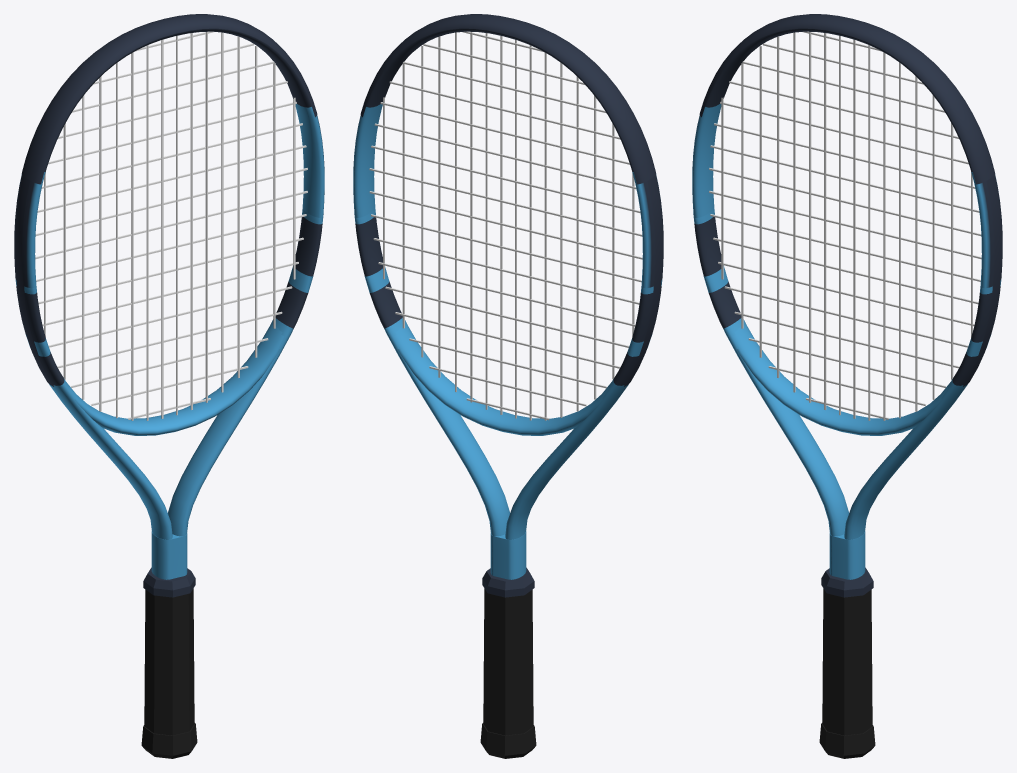
Rendered from babolat-drive-junior-24-2025.glb.
The picture shows the model from 3 angles, left to right: view 1: azimuth 30°, elevation 25°; view 2: azimuth 150°, elevation 25°; view 3: azimuth 330°, elevation 25°; orthographic projection.
Parts seen in each view (by area): view 1: frame, strings_mains, strings_crosses, grip, bumper, grommets, butt_cap, collar; view 2: frame, strings_mains, strings_crosses, grip, bumper, grommets, butt_cap, collar; view 3: frame, strings_mains, strings_crosses, grip, bumper, grommets, butt_cap, collar.
Boxes of the visible parts, bbox=[...] form: frame: bbox=[14, 28, 324, 579]; strings_mains: bbox=[44, 31, 295, 420]; strings_crosses: bbox=[35, 31, 307, 419]; grip: bbox=[144, 588, 194, 735]; bumper: bbox=[21, 14, 317, 184]; grommets: bbox=[15, 176, 53, 386]; butt_cap: bbox=[141, 723, 197, 758]; collar: bbox=[143, 567, 195, 597]; frame: bbox=[353, 28, 663, 579]; strings_mains: bbox=[383, 32, 634, 420]; strings_crosses: bbox=[369, 31, 642, 420]; grip: bbox=[483, 588, 533, 735]; bumper: bbox=[360, 14, 656, 184]; grommets: bbox=[624, 176, 662, 386]; butt_cap: bbox=[480, 723, 536, 758]; collar: bbox=[482, 567, 534, 597]; frame: bbox=[692, 28, 1002, 579]; strings_mains: bbox=[721, 31, 972, 420]; strings_crosses: bbox=[709, 31, 981, 419]; grip: bbox=[822, 588, 872, 735]; bumper: bbox=[699, 14, 995, 184]; grommets: bbox=[963, 176, 1001, 386]; butt_cap: bbox=[819, 723, 875, 758]; collar: bbox=[821, 567, 873, 597].
Size of the model in its own units: 0.2653 by 0.6099 by 0.0396.
